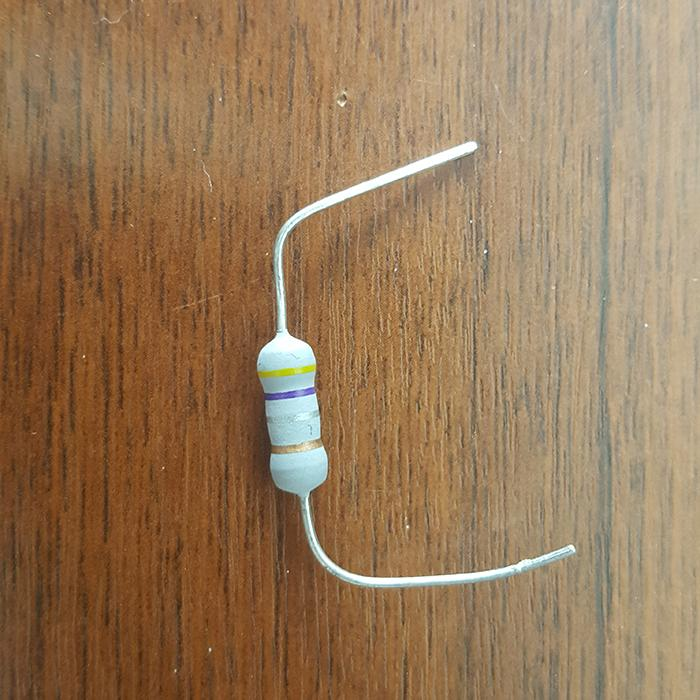resistor: (257, 329, 327, 496)
